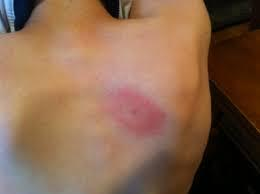Tick: (99, 73, 171, 147)
